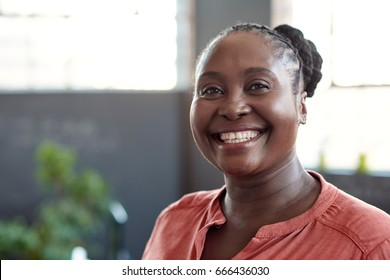No Mask: (194, 105, 293, 167)
